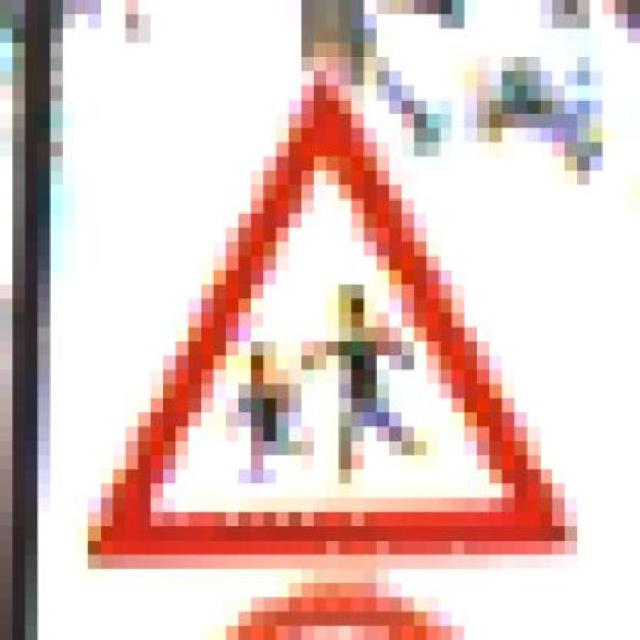Beware of children: (75, 57, 590, 583)
